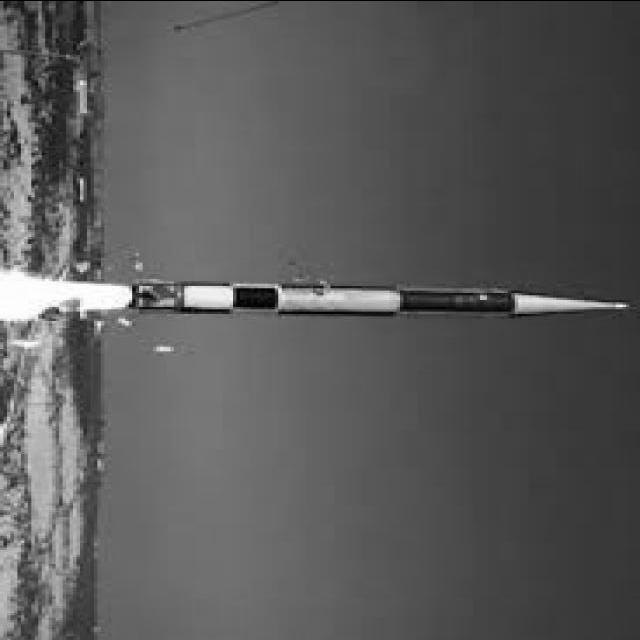missile: (106, 278, 638, 319)
